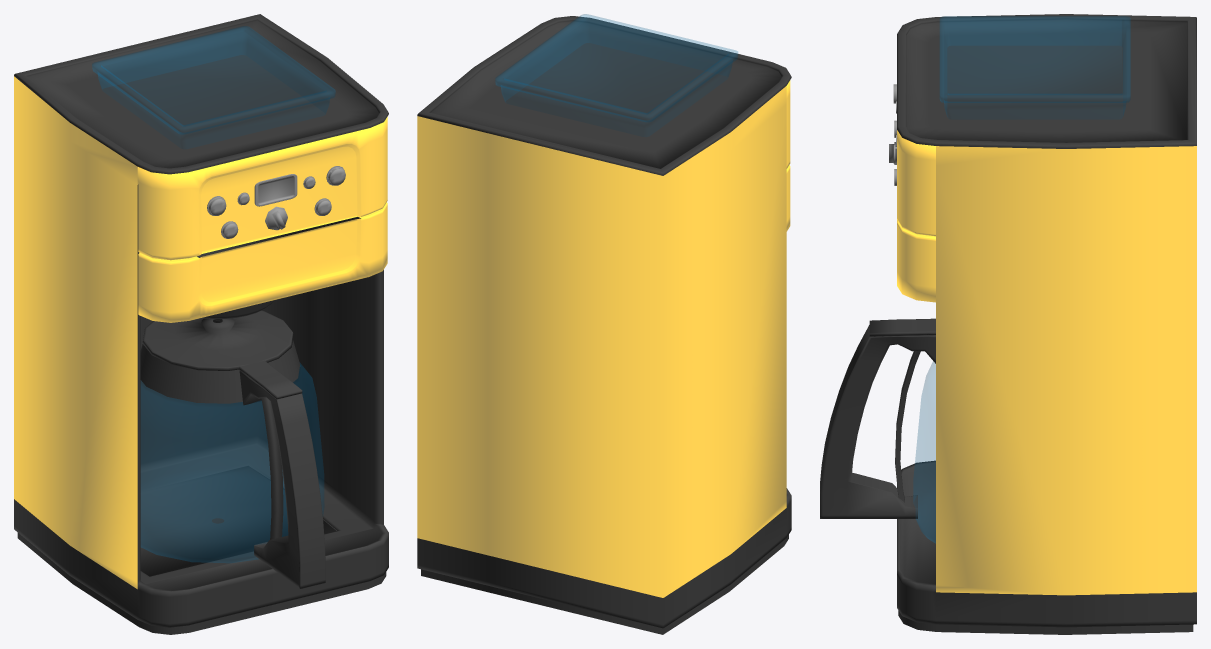
3 views of the same model, side by side, from view 1: azimuth 30°, elevation 25°; view 2: azimuth 150°, elevation 25°; view 3: azimuth 270°, elevation 25° (orthographic). The views are drawn at different scales.
Parts seen in each view (by area): view 1: Cube; view 2: Cube; view 3: Cube.
Part boxes in pixels (bbox=[...]): Cube: bbox=[14, 14, 388, 634]; Cube: bbox=[417, 14, 791, 634]; Cube: bbox=[820, 14, 1196, 634].
Bounding box in the file's own units: 0.4041 × 0.7281 × 0.4845.
